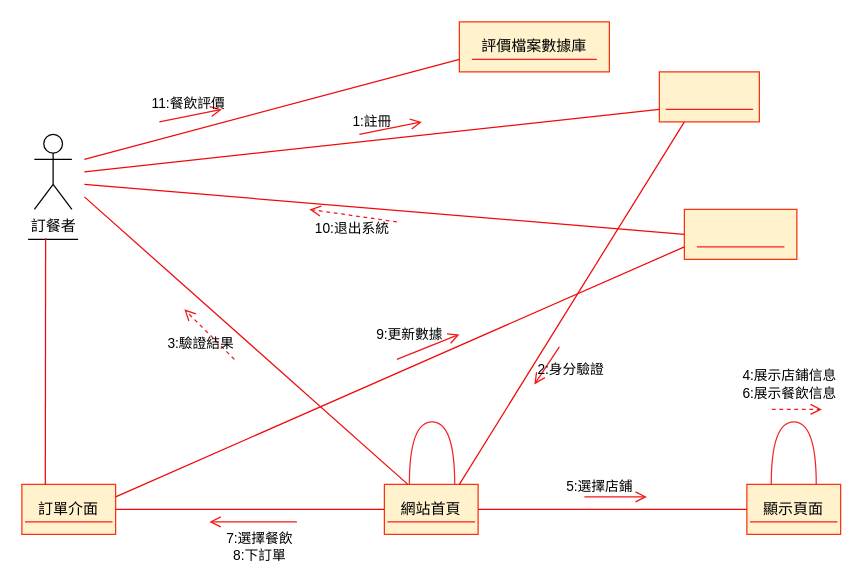
This 863x585 diagram has some shape labels left out. The shapes that lost their labels are listed below. From the top down, each one's box as (x1, y1, x2, y2) in pixels, then its label:
(658, 71, 759, 122): 登錄介面
(683, 208, 797, 259): 餐飲數據庫
